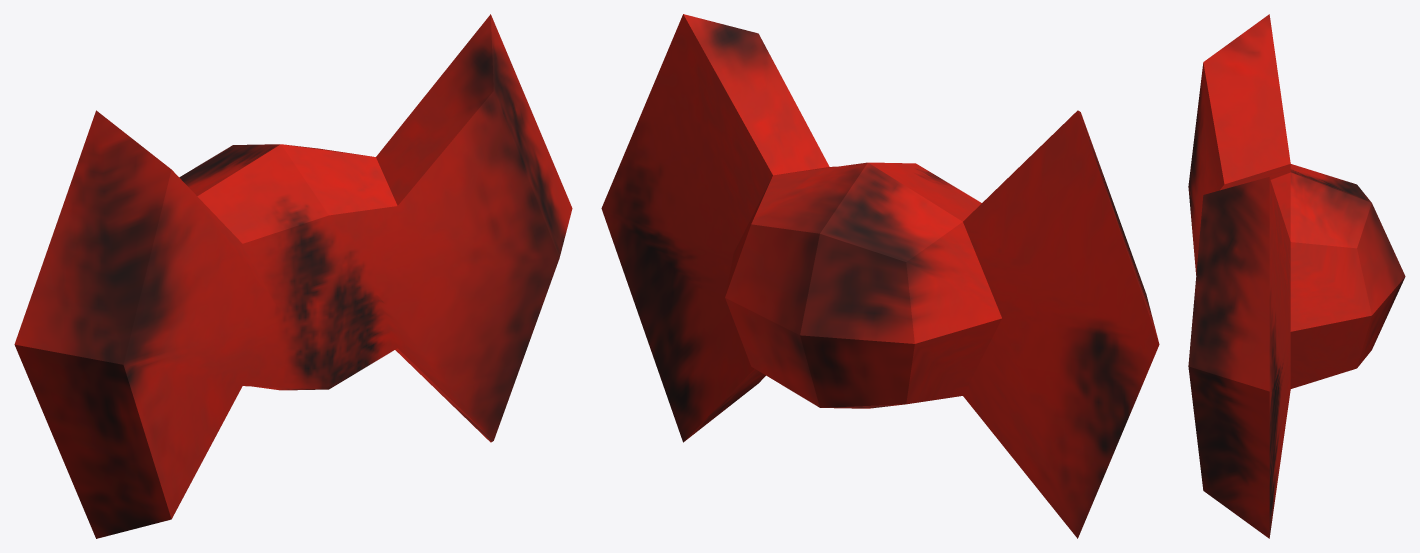
File: cavada borboleta.fbx
3 renders of one model, left to right at view 1: azimuth 30°, elevation 25°; view 2: azimuth 150°, elevation 25°; view 3: azimuth 270°, elevation 25°, orthographic. The views are drawn at different scales.
Parts seen in each view (by area): view 1: cavada borboleta; view 2: cavada borboleta; view 3: cavada borboleta.
Boxes of the visible parts, x1,y1,x2,y2 form: cavada borboleta: (14, 14, 572, 538); cavada borboleta: (601, 14, 1159, 538); cavada borboleta: (1188, 14, 1405, 538).
Size of the model in its own units: 14.55 by 10.68 by 5.8.
